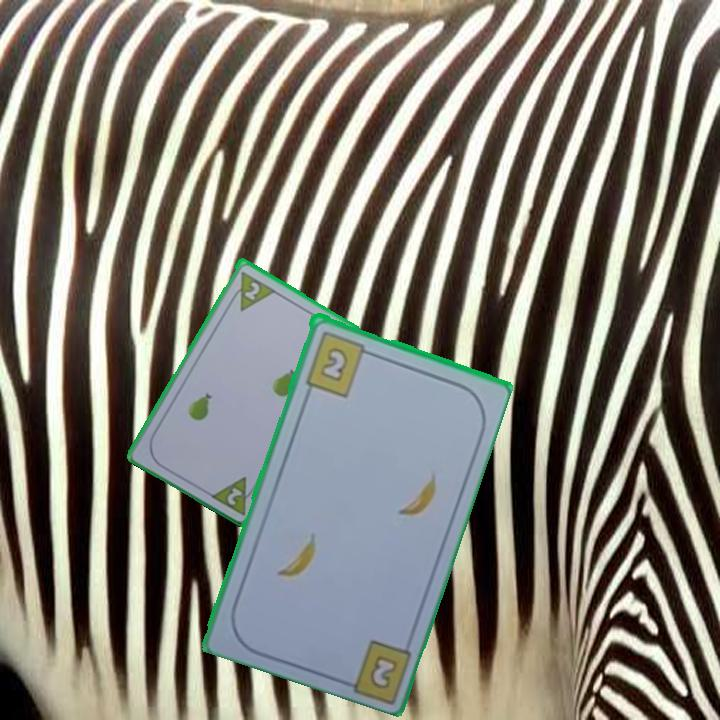2b: (302, 327, 376, 399), (368, 654, 397, 689)
2p: (240, 278, 263, 303), (223, 483, 245, 508)
